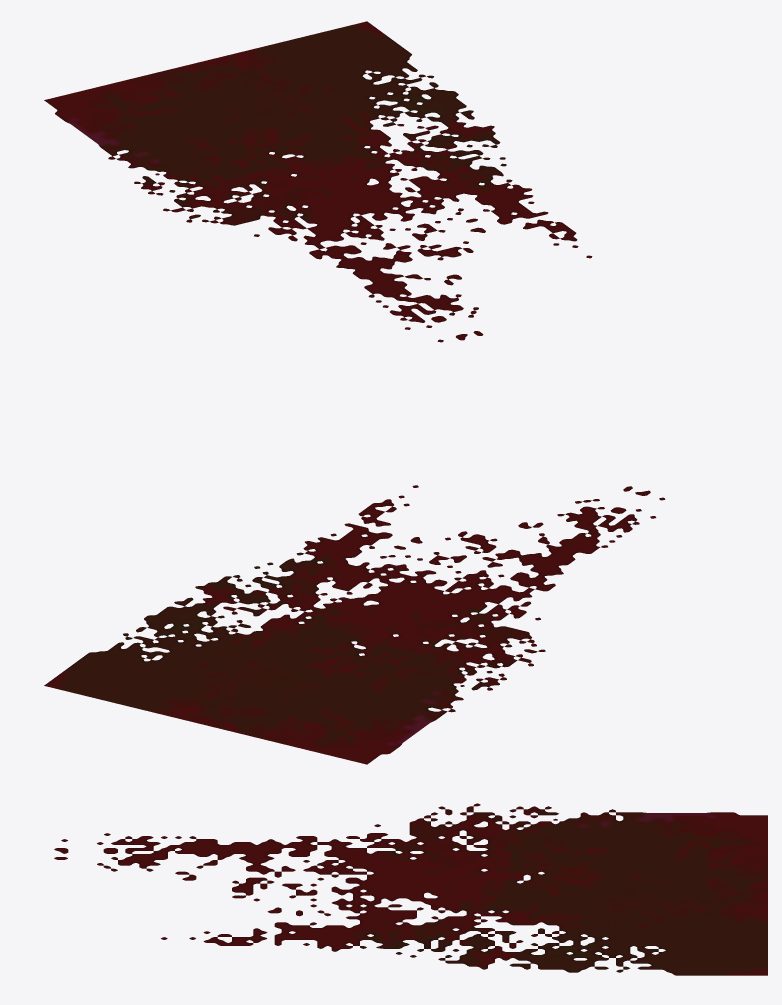
Rendered from Blood.fbx.
3 views of the same model, one above another, from view 1: azimuth 30°, elevation 25°; view 2: azimuth 150°, elevation 25°; view 3: azimuth 270°, elevation 25° (orthographic).
Parts seen in each view (by area): view 1: Куб.069; view 2: Куб.069; view 3: Куб.069.
Part boxes in pixels (x1,y1,x2,y2): Куб.069: (44,21,592,342); Куб.069: (44,485,665,764); Куб.069: (54,803,767,975).
Bounding box in the file's own units: 120 × 0 × 201.
